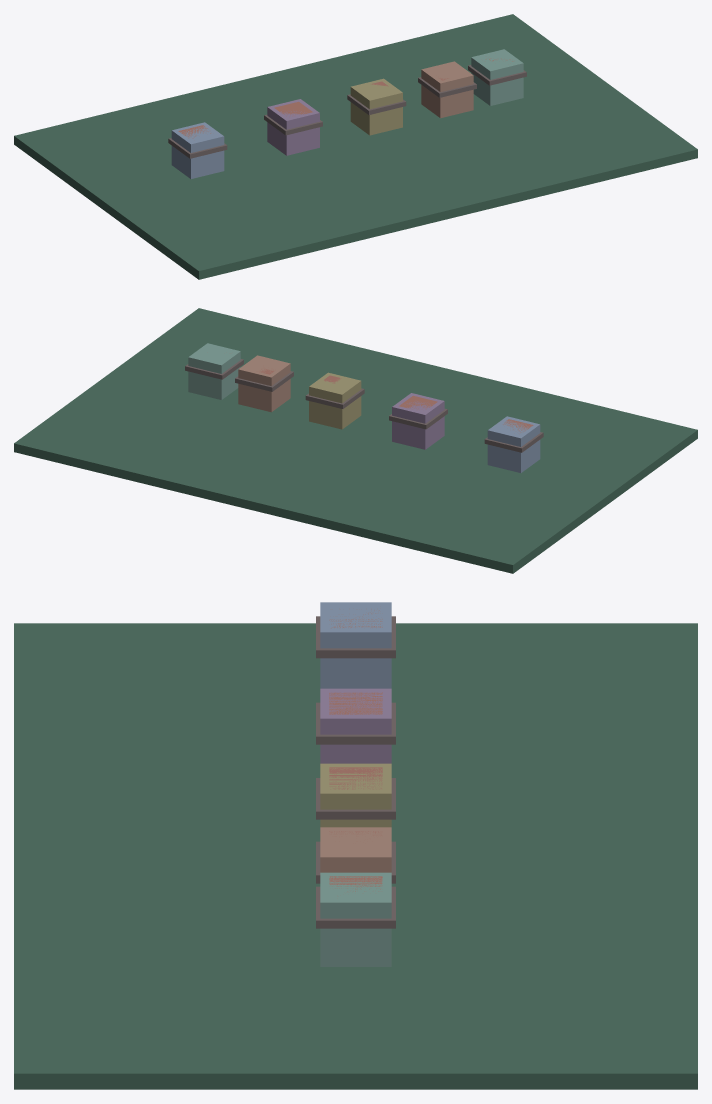
Rendered from demo-town.gltf.
3 views of the same model, one above another, from view 1: azimuth 30°, elevation 25°; view 2: azimuth 150°, elevation 25°; view 3: azimuth 270°, elevation 25° (orthographic). The views are drawn at different scales.
Visible parts, largest first — view 1: DemoTown; view 2: DemoTown; view 3: DemoTown.
Part boxes in pixels (left/top/right/bottom): DemoTown: left=14, top=14, right=697, bottom=279; DemoTown: left=14, top=308, right=697, bottom=573; DemoTown: left=14, top=602, right=697, bottom=1089.
Bounding box in the file's own units: 120 × 13 × 77.
